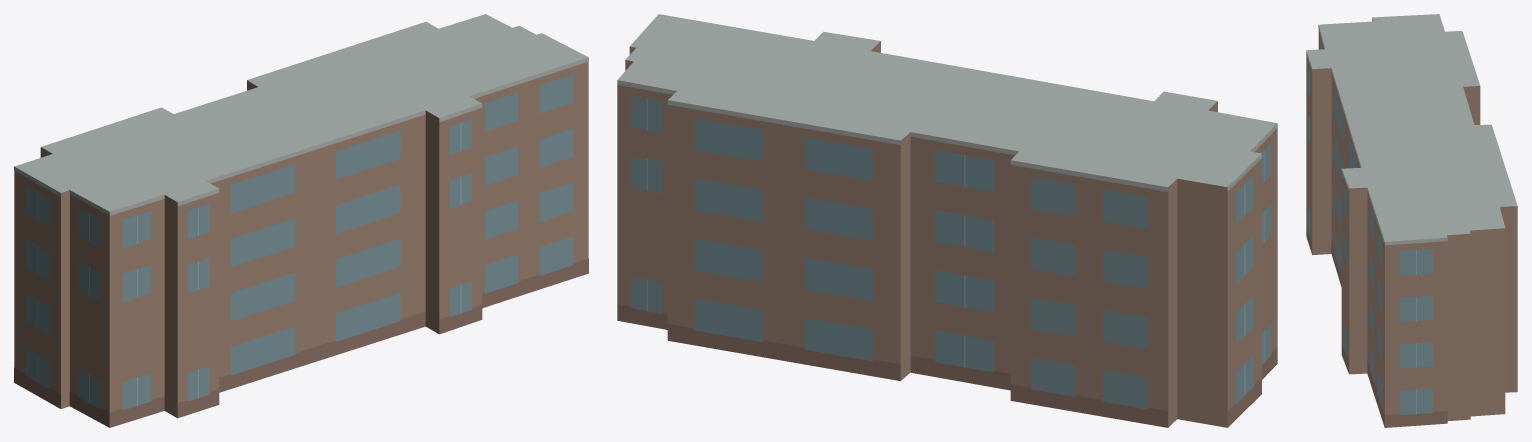
File: survey-upis-32757392.glb
3 views of the same model, side by side, from view 1: azimuth 30°, elevation 25°; view 2: azimuth 150°, elevation 25°; view 3: azimuth 270°, elevation 25° (orthographic). The views are drawn at different scales.
Parts seen in each view (by area): view 1: survey-upis-32757392.tmp; view 2: survey-upis-32757392.tmp; view 3: survey-upis-32757392.tmp.
Boxes of the visible parts, x1,y1,x2,y2 form: survey-upis-32757392.tmp: [14, 14, 588, 427]; survey-upis-32757392.tmp: [617, 14, 1277, 427]; survey-upis-32757392.tmp: [1306, 14, 1517, 427].
Bounding box in the file's own units: 33.39 × 12.7 × 13.1.
